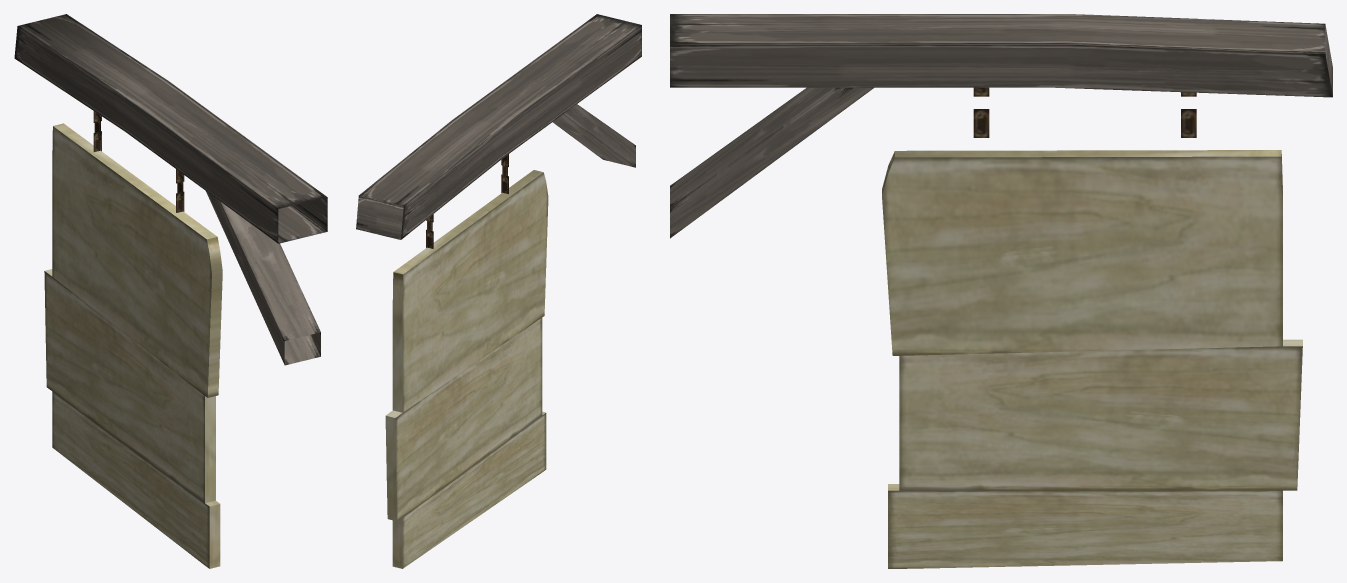
File: sign1_shanty_a_frame.fbx
3 views of the same model, side by side, from view 1: azimuth 30°, elevation 25°; view 2: azimuth 150°, elevation 25°; view 3: azimuth 270°, elevation 25° (orthographic). The views are drawn at different scales.
Visible parts, largest first — view 1: sign, support_horizontal, support_diagonal; view 2: sign, support_horizontal, support_diagonal; view 3: sign, support_horizontal, support_diagonal.
Boxes of the visible parts, x1,y1,x2,y2 form: sign: (44, 123, 222, 568); support_horizontal: (14, 14, 327, 243); support_diagonal: (206, 191, 320, 365); sign: (385, 170, 548, 568); support_horizontal: (356, 14, 641, 239); support_diagonal: (552, 104, 635, 167); sign: (882, 150, 1302, 568); support_horizontal: (670, 14, 1332, 97); support_diagonal: (670, 87, 873, 238).
Bounding box in the file's own units: 64.52 × 536 × 599.
Materials: 2 (2 with a texture image).
